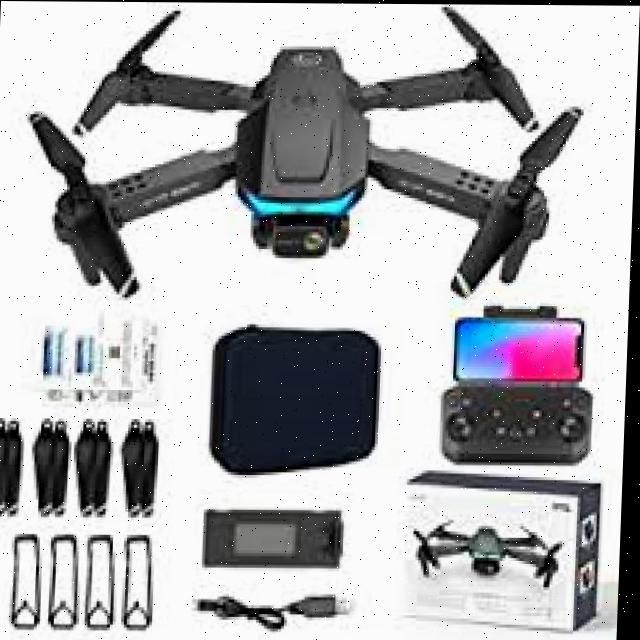drone: (16, 6, 596, 329)
